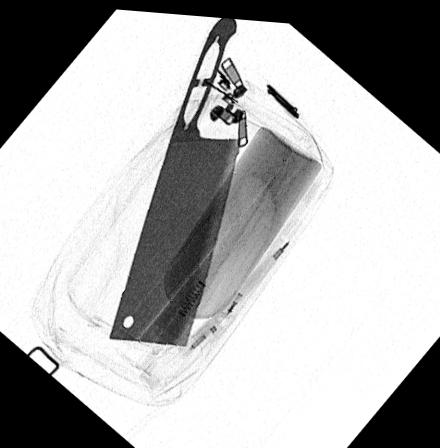Knife: (109, 14, 241, 343)
